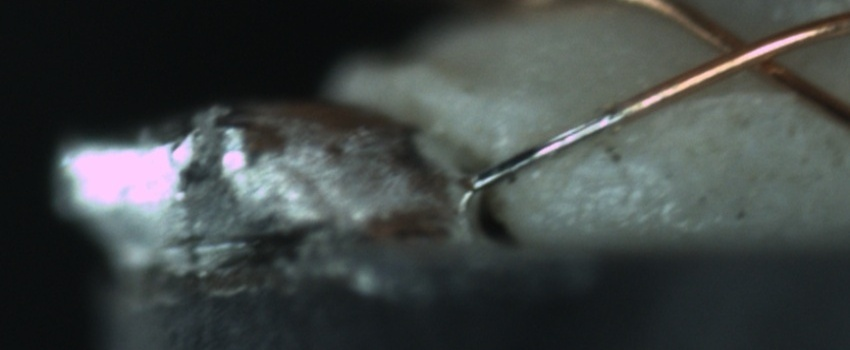CL: (684, 15, 811, 87)
TS: (466, 105, 625, 194)
